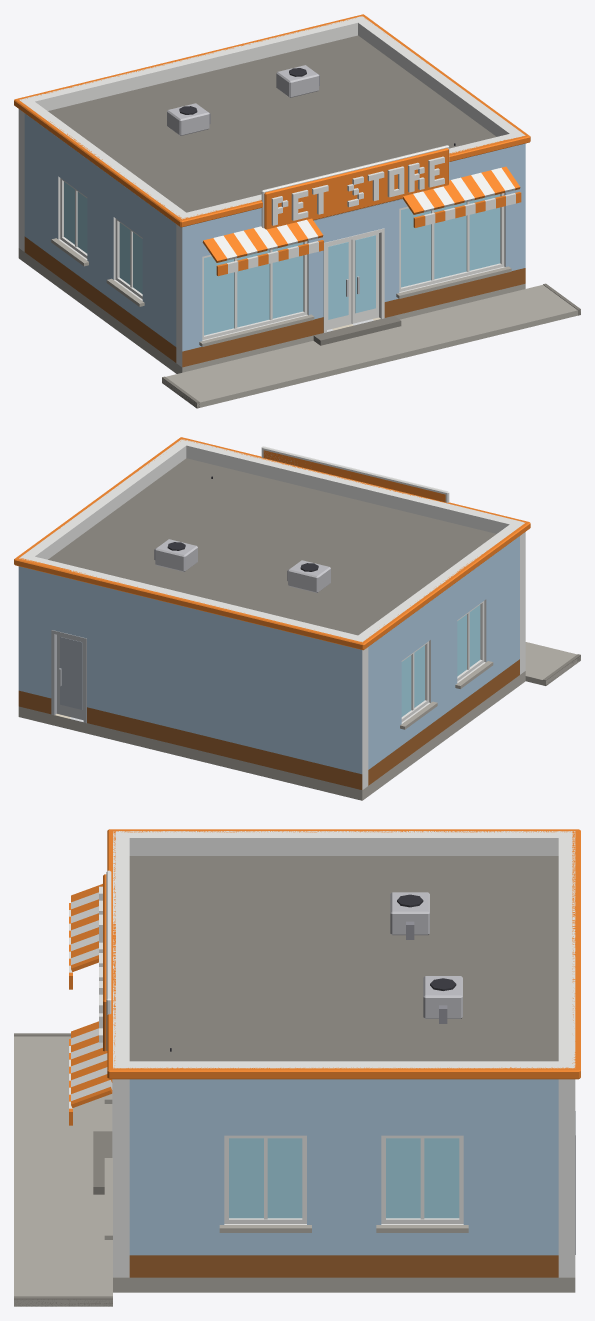
File: PetStore.fbx
The picture shows the model from 3 angles, top to bottom: view 1: azimuth 30°, elevation 25°; view 2: azimuth 150°, elevation 25°; view 3: azimuth 270°, elevation 25°; orthographic projection. The views are drawn at different scales.
Visible parts, largest first — view 1: PetStore, PetStore_Roof, PetStore_Glass, PetStore_Sign, PetStore_DoorR, PetStore_DoorL; view 2: PetStore, PetStore_Roof, PetStore_Glass, PetStore_Sign, PetStore_BackDoor; view 3: PetStore, PetStore_Roof, PetStore_Glass, PetStore_Sign.
Part boxes in pixels (box(x1,y1,x2,y2)): PetStore: box(14, 14, 580, 408); PetStore_Roof: box(48, 35, 496, 212); PetStore_Glass: box(64, 182, 500, 335); PetStore_Sign: box(261, 145, 449, 229); PetStore_DoorR: box(351, 233, 378, 323); PetStore_DoorL: box(327, 239, 351, 329); PetStore: box(14, 437, 580, 800); PetStore_Roof: box(48, 458, 496, 635); PetStore_Glass: box(401, 605, 480, 716); PetStore_Sign: box(261, 446, 449, 502); PetStore_BackDoor: box(57, 634, 83, 720); PetStore: box(14, 829, 580, 1306); PetStore_Roof: box(129, 856, 558, 1061); PetStore_Glass: box(229, 1138, 459, 1218); PetStore_Sign: box(99, 870, 111, 1051).
Size of the model in its own units: 38 by 16 by 34.35.
Materials: 1 (1 with a texture image).
